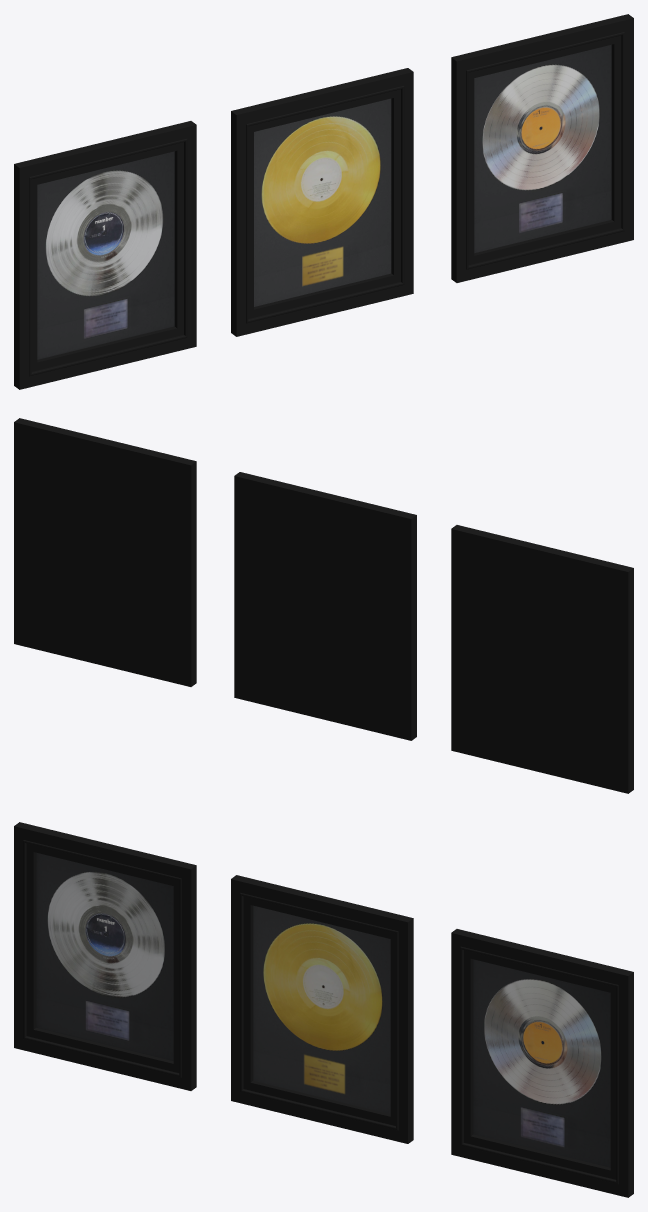
Rendered from Pictures.FBX.
The picture shows the model from 3 angles, top to bottom: view 1: azimuth 30°, elevation 25°; view 2: azimuth 150°, elevation 25°; view 3: azimuth 330°, elevation 25°; orthographic projection.
Visible parts, largest first — view 1: picture 1, picture 2, picture 3; view 2: picture 1, picture 2, picture 3; view 3: picture 1, picture 2, picture 3.
Part boxes in pixels (box(x1,y1,x2,y2)): picture 1: box(14, 121, 196, 389); picture 2: box(231, 68, 413, 336); picture 3: box(451, 14, 633, 282); picture 1: box(451, 525, 633, 793); picture 2: box(234, 472, 416, 740); picture 3: box(14, 418, 196, 686); picture 1: box(14, 822, 196, 1090); picture 2: box(231, 875, 413, 1143); picture 3: box(451, 929, 633, 1197).
Size of the model in its own units: 234 by 4.03 by 80.57.
1 material, 1 textured.
